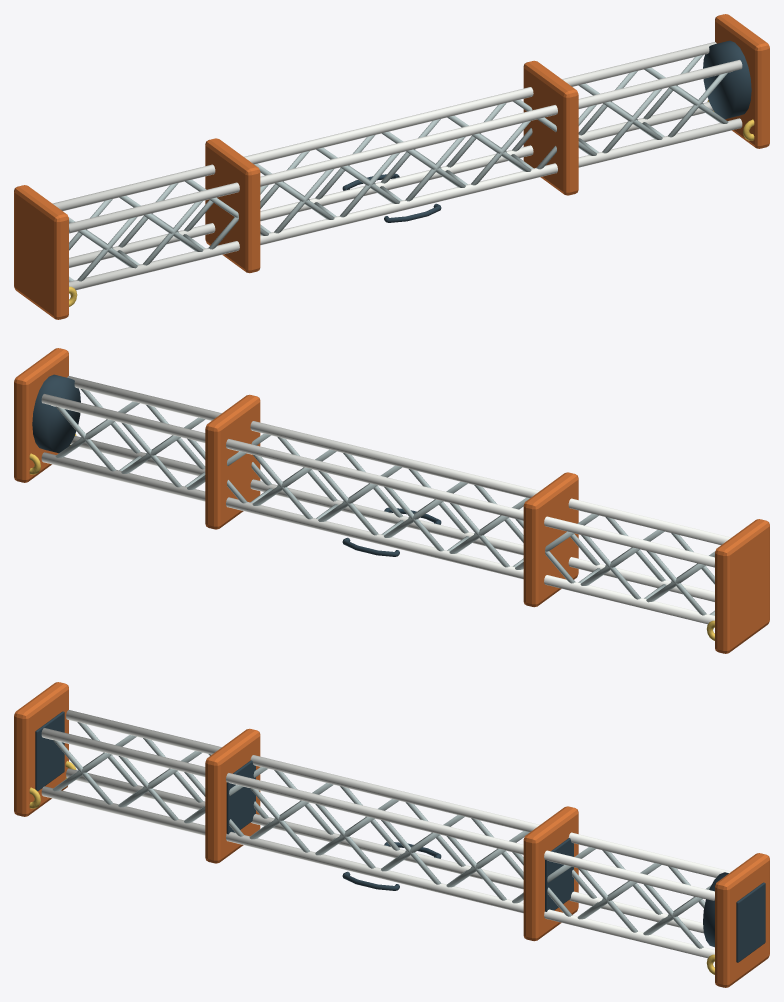
File: mast.glb
3 views of the same model, one above another, from view 1: azimuth 30°, elevation 25°; view 2: azimuth 150°, elevation 25°; view 3: azimuth 330°, elevation 25° (orthographic).
Visible parts, largest first — view 1: tyaga-mast-surface; view 2: tyaga-mast-surface; view 3: tyaga-mast-surface.
Part boxes in pixels (x1,y1,x2,y2): tyaga-mast-surface: [14, 14, 769, 319]; tyaga-mast-surface: [14, 348, 769, 653]; tyaga-mast-surface: [14, 682, 769, 987].
Size of the model in its own units: 7.2 by 1 by 0.9.
